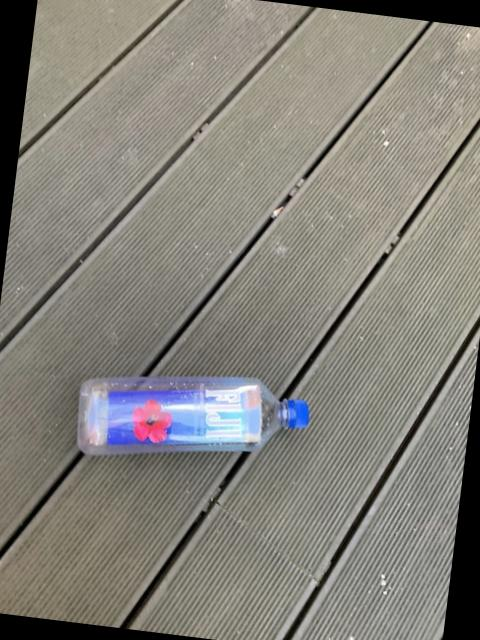plastic: (79, 378, 309, 456)
